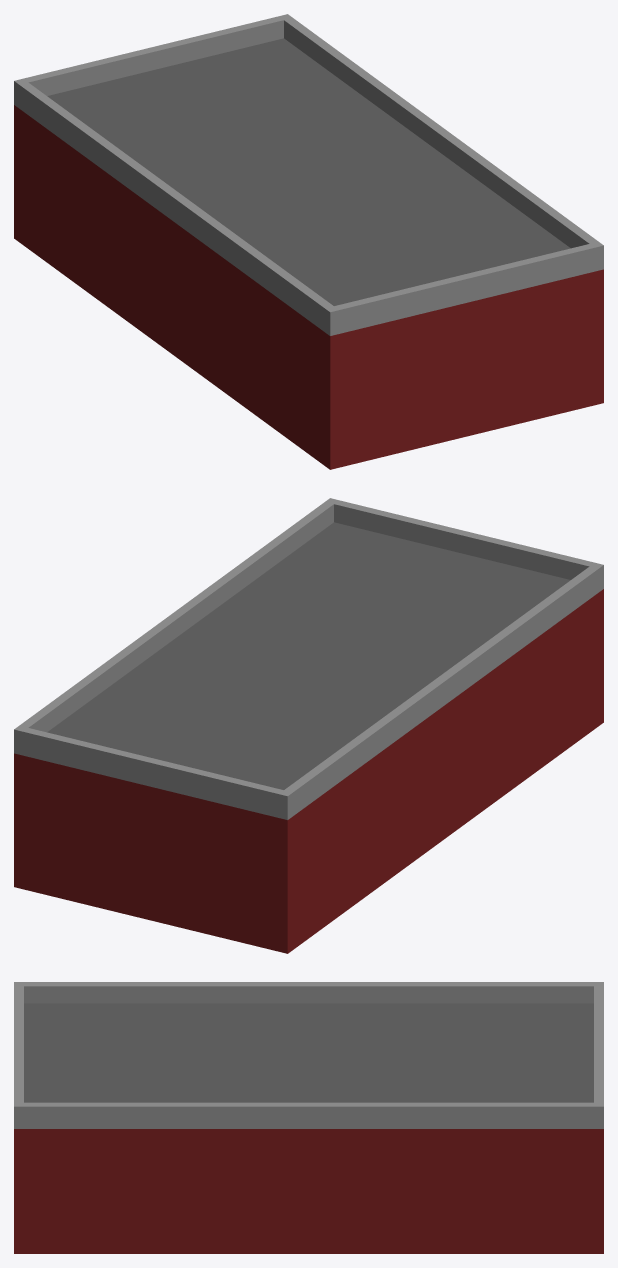
File: Building_15_30_70.FBX
3 views of the same model, one above another, from view 1: azimuth 30°, elevation 25°; view 2: azimuth 150°, elevation 25°; view 3: azimuth 270°, elevation 25° (orthographic). The views are drawn at different scales.
Parts seen in each view (by area): view 1: BakedBuilding_2014741032851847; view 2: BakedBuilding_2014741032851847; view 3: BakedBuilding_2014741032851847.
Part boxes in pixels (x1,y1,x2,y2): BakedBuilding_2014741032851847: [14, 14, 603, 469]; BakedBuilding_2014741032851847: [14, 498, 603, 953]; BakedBuilding_2014741032851847: [14, 982, 603, 1253].
Size of the model in its own units: 1500 by 825 by 3000.
